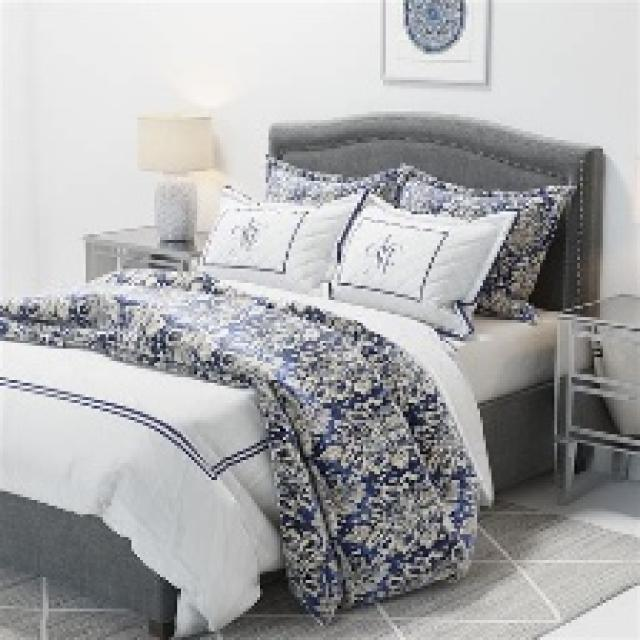Bed: (0, 109, 603, 637)
